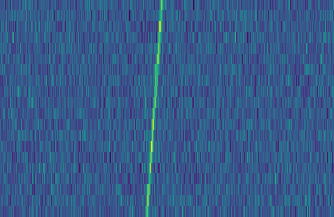signal: (141, 0, 166, 217)
